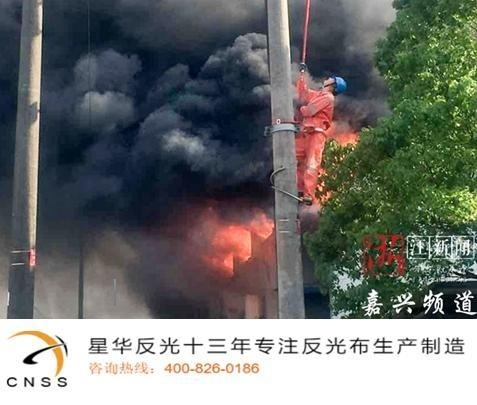fire: (296, 121, 359, 202), (204, 209, 272, 270)
